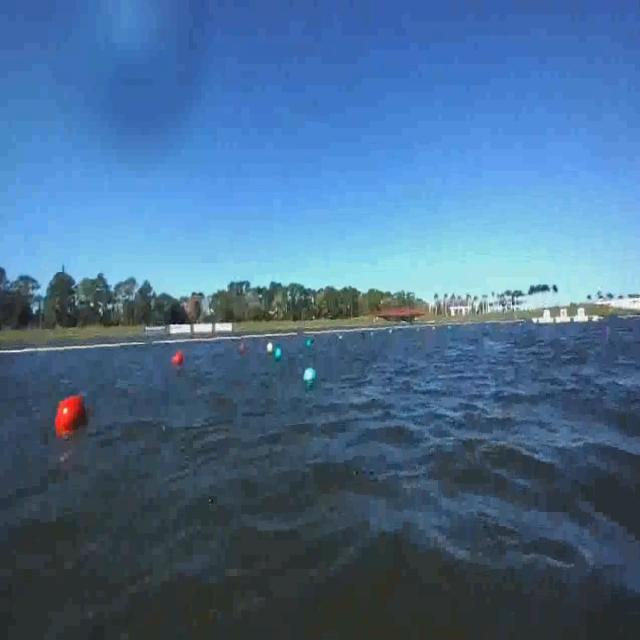green-buoy: (302, 366, 316, 382), (275, 348, 283, 362)
red-buoy: (55, 393, 92, 439), (173, 351, 184, 366)
